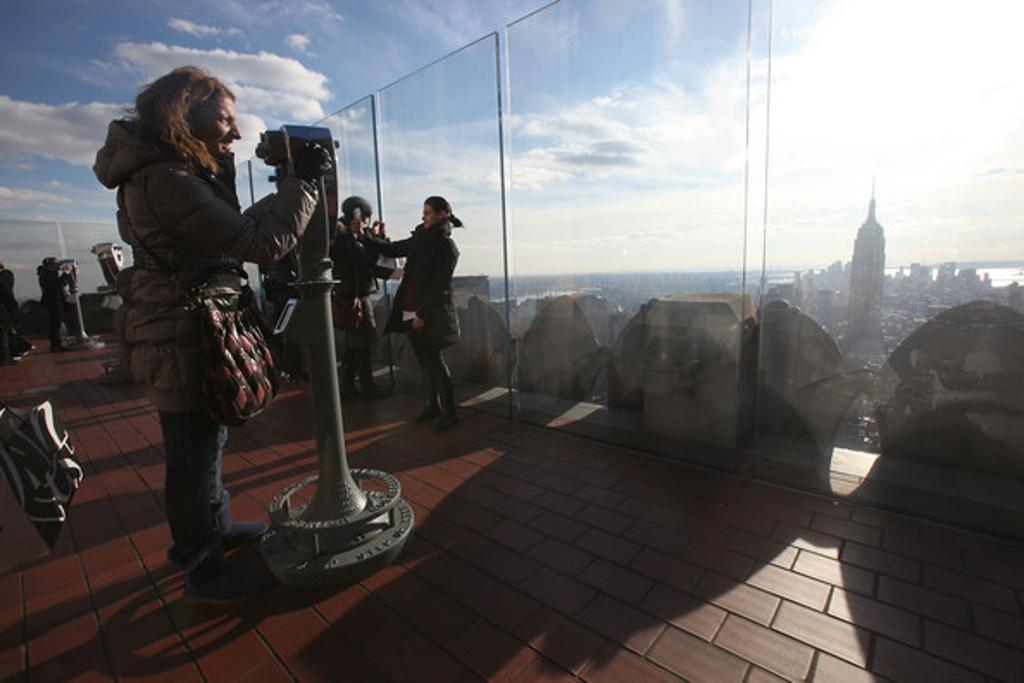face: (191, 96, 241, 154), (422, 203, 439, 226), (48, 259, 58, 270)
